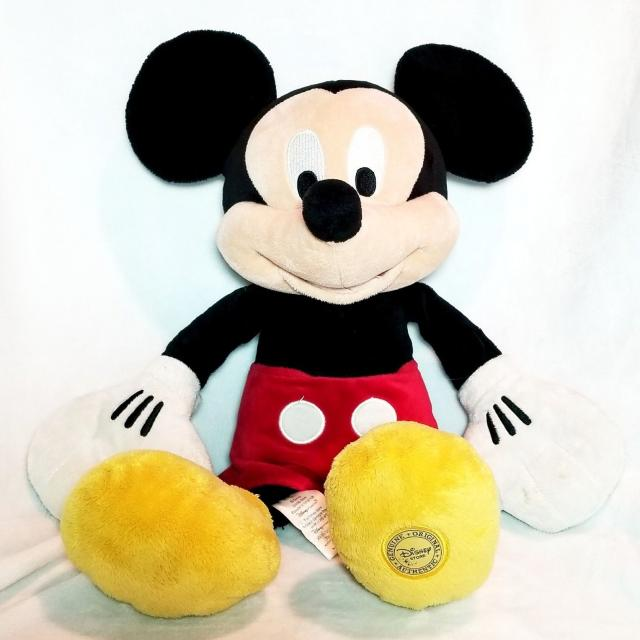mickey: (29, 31, 623, 615)
